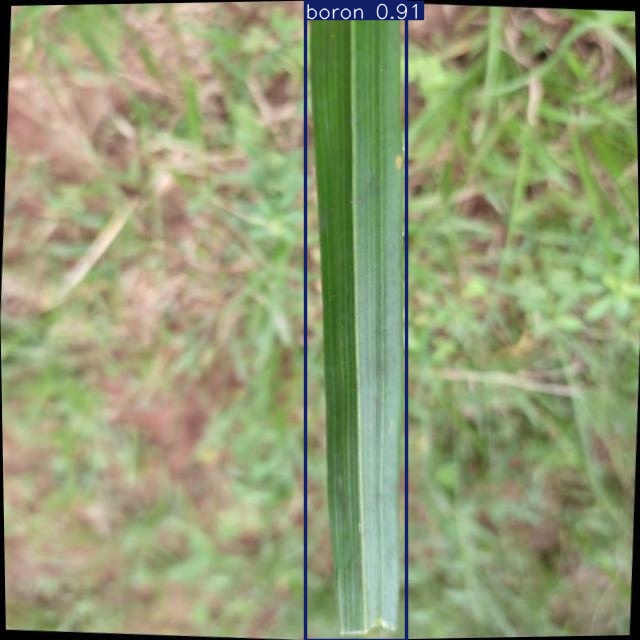nitrogen: (306, 2, 406, 640)
